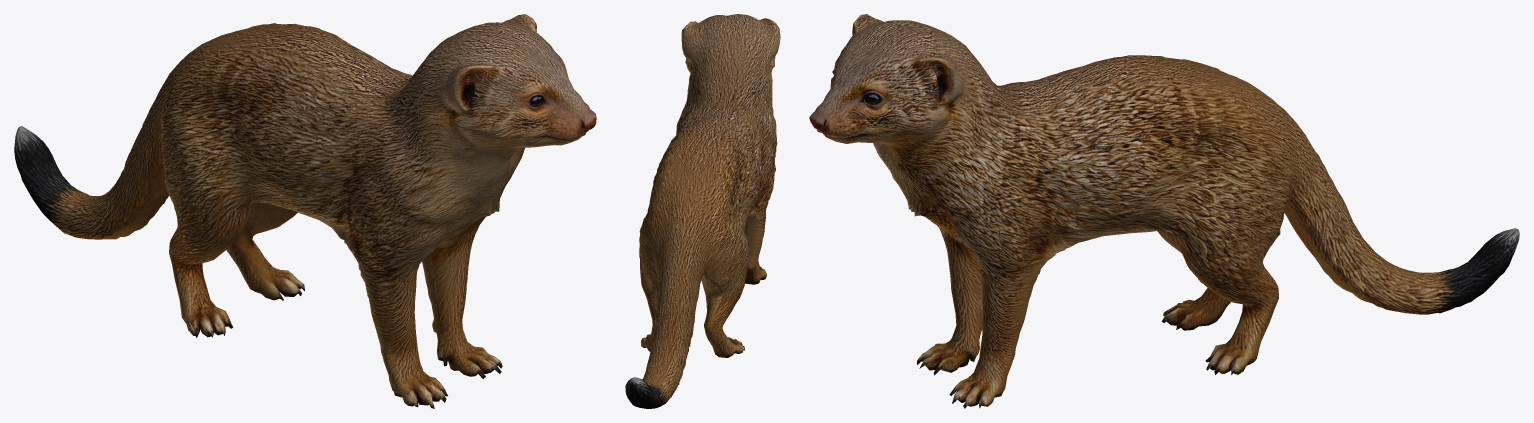
Rendered from mongoose.glb.
The picture shows the model from 3 angles, left to right: view 1: azimuth 30°, elevation 25°; view 2: azimuth 150°, elevation 25°; view 3: azimuth 270°, elevation 25°; orthographic projection. The views are drawn at different scales.
Parts seen in each view (by area): view 1: tripo_node_c76d1a5c-6fd0-4c54-8446-be189658d8ef; view 2: tripo_node_c76d1a5c-6fd0-4c54-8446-be189658d8ef; view 3: tripo_node_c76d1a5c-6fd0-4c54-8446-be189658d8ef.
Part boxes in pixels (x1=…): tripo_node_c76d1a5c-6fd0-4c54-8446-be189658d8ef: x1=14, y1=14, x2=596, y2=408; tripo_node_c76d1a5c-6fd0-4c54-8446-be189658d8ef: x1=625, y1=14, x2=780, y2=408; tripo_node_c76d1a5c-6fd0-4c54-8446-be189658d8ef: x1=809, y1=14, x2=1519, y2=408.
Size of the model in its own units: 0.3809 by 0.565 by 1.
1 material, 1 textured.
